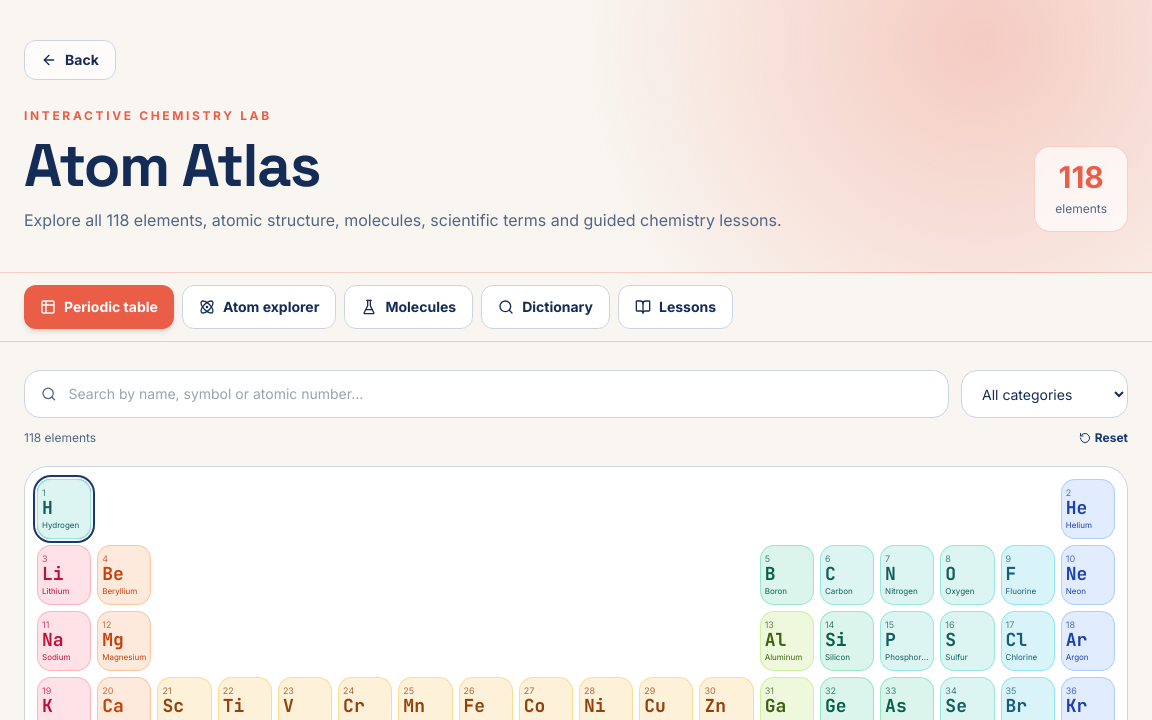
Test: Atom Atlas › opens Dictionary and Lessons for Premium students
Click the button "Dictionary".
click(546, 307)  # box [481, 285, 610, 329]
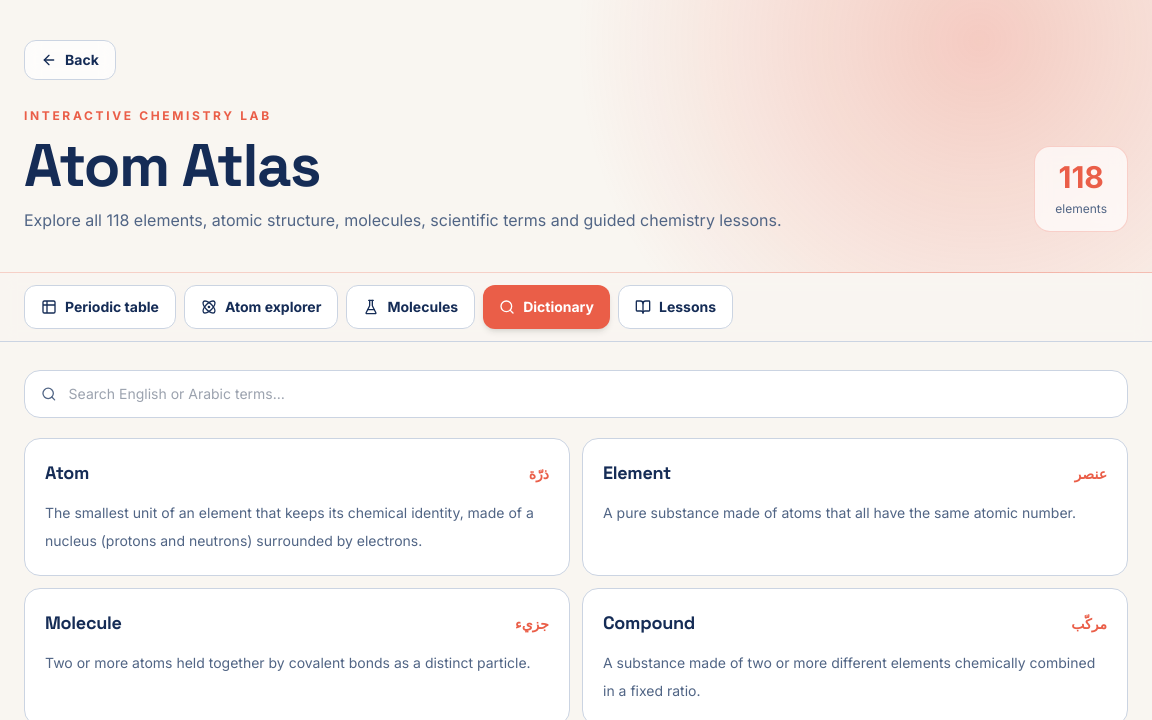
Expected: the field with placeholder "Search English or Arabic terms…" is shown, [69, 384, 1111, 404]
Click the button "Lessons".
click(676, 307)  # box [618, 285, 733, 329]
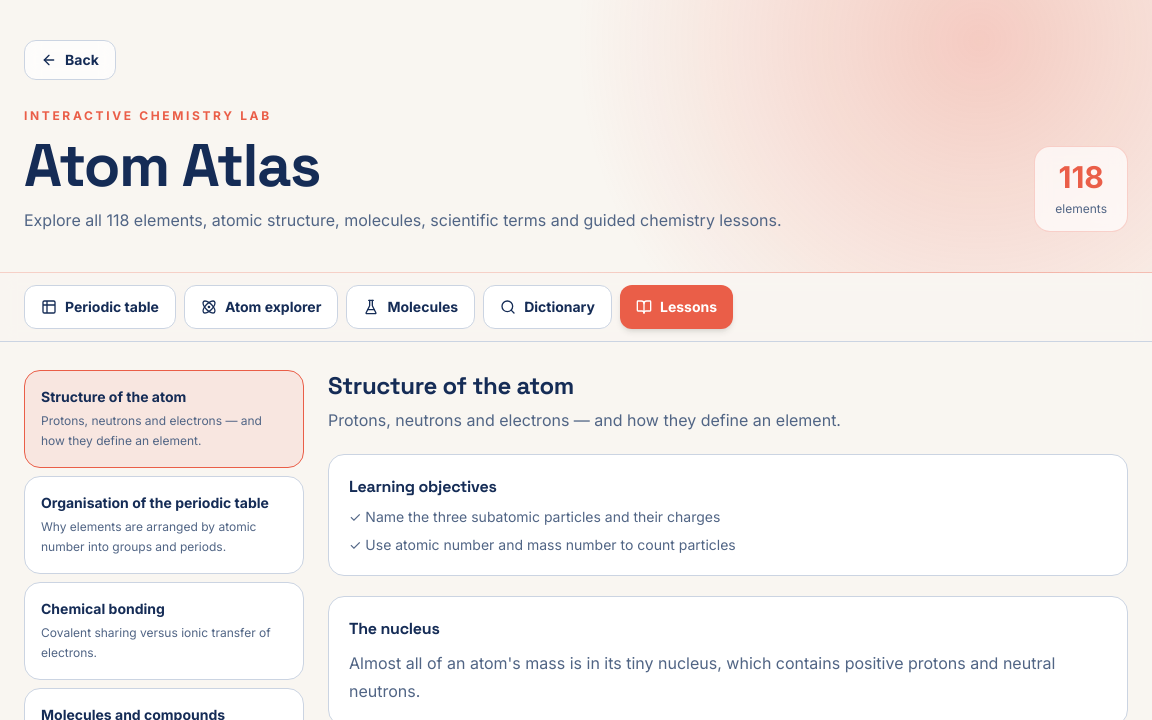
Expected: the heading "Learning objectives" is shown, [349, 476, 496, 497]
